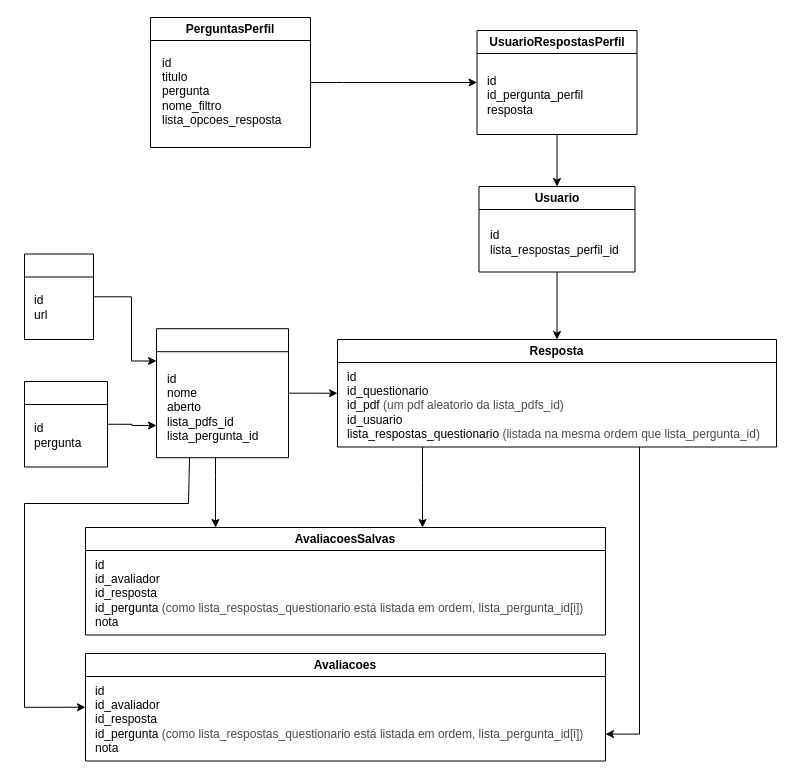
The diagram is 794 pixels wide and 779 high, and some of its shapes have lost their labels. Each missing label, with the box of its shape:
PDFs: (24, 253, 94, 340)
Perguntas: (24, 380, 108, 467)
Questionario: (156, 328, 288, 458)
